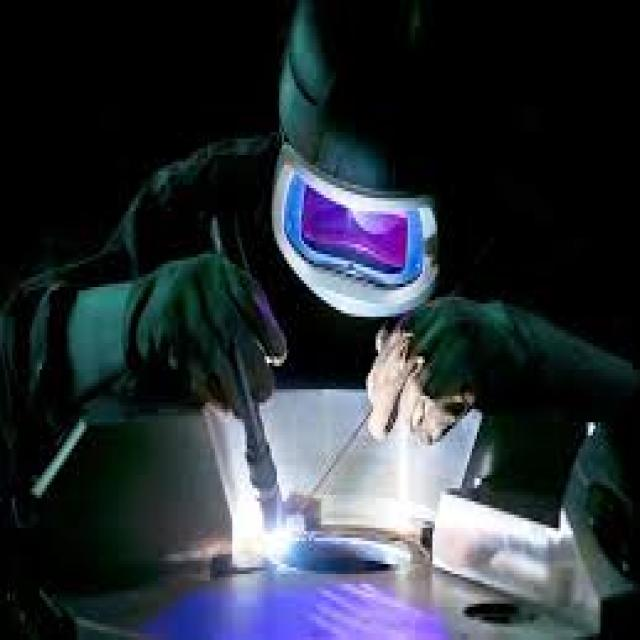welding: (259, 515, 301, 561)
